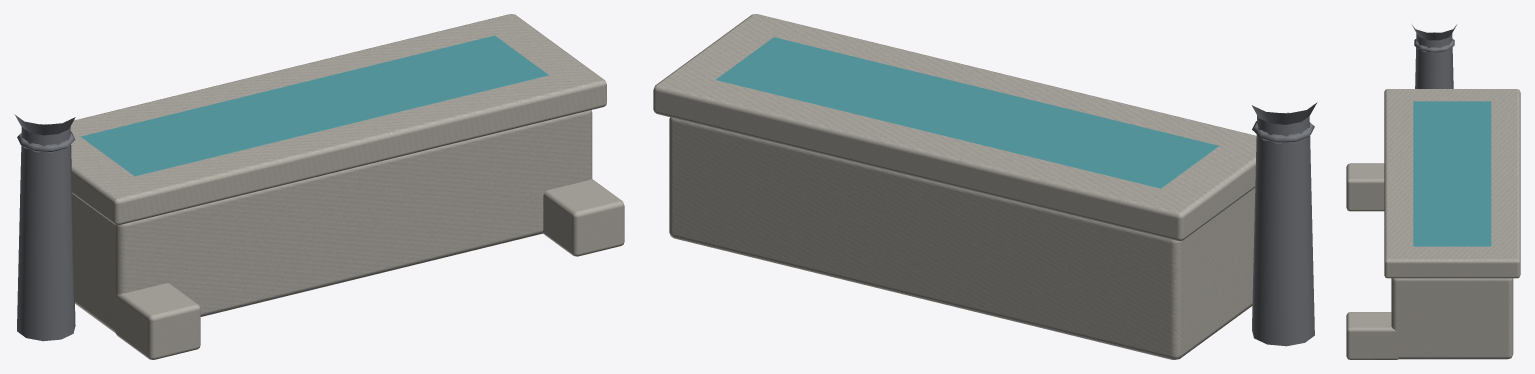
The model's file is greek-island-village-and-harbour-donkey-trough-9f20d7a1__37116.glb.
3 renders of one model, left to right at view 1: azimuth 30°, elevation 25°; view 2: azimuth 150°, elevation 25°; view 3: azimuth 270°, elevation 25°, orthographic. The views are drawn at different scales.
Parts seen in each view (by area): view 1: donkey-trough; view 2: donkey-trough; view 3: donkey-trough.
Boxes of the visible parts, x1,y1,x2,y2 form: donkey-trough: (14,14,624,359); donkey-trough: (653,14,1317,359); donkey-trough: (1346,25,1520,359).
Size of the model in its own units: 2.56 by 0.96 by 0.97.
Materials: 3 (1 with a texture image).
